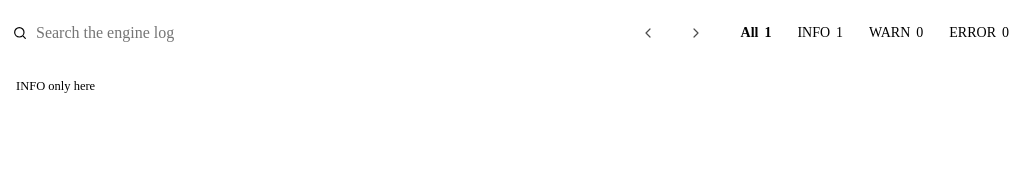
Test: a level with no line says so
Click the button "ERROR0". click: (979, 33)
box: [937,15,1021,51]
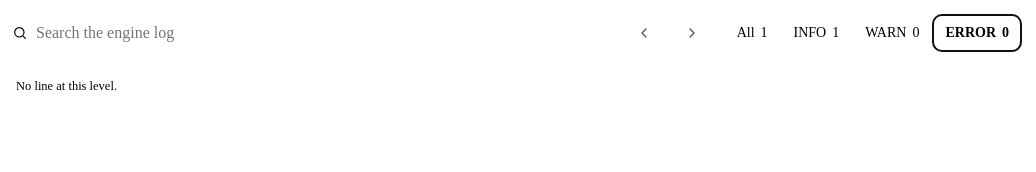
expect the text named "Engine log" reads "No line at this level.": met, box [16,79,117,93]
